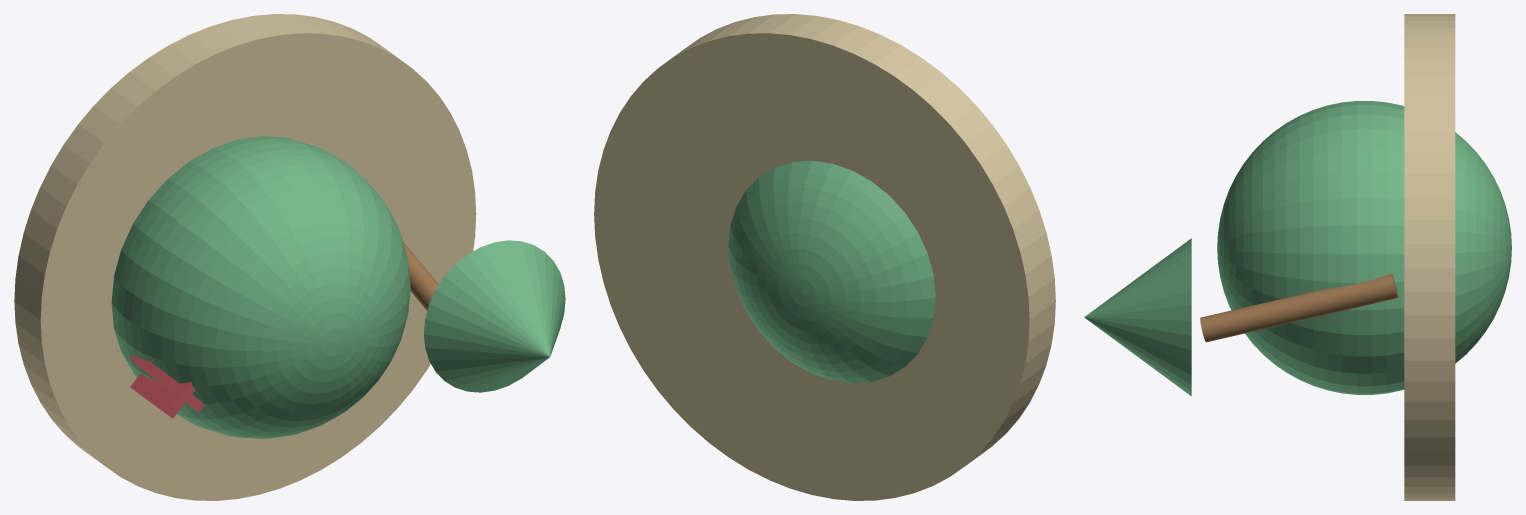
The model's file is island-berry-cove.glb.
3 views of the same model, side by side, from view 1: azimuth 30°, elevation 25°; view 2: azimuth 150°, elevation 25°; view 3: azimuth 270°, elevation 25° (orthographic). The views are drawn at different scales.
Parts seen in each view (by area): view 1: round_sandy_island, green_mound, palm_leaves, x_marks_spot_a, palm_trunk, x_marks_spot_b; view 2: round_sandy_island, green_mound; view 3: green_mound, round_sandy_island, palm_leaves, palm_trunk.
Part boxes in pixels (left/top/right/bottom): round_sandy_island: left=14, top=14, right=476, bottom=500; green_mound: left=111, top=136, right=410, bottom=438; palm_leaves: left=424, top=240, right=565, bottom=392; x_marks_spot_a: left=130, top=373, right=194, bottom=418; palm_trunk: left=403, top=242, right=438, bottom=310; x_marks_spot_b: left=130, top=355, right=204, bottom=412; round_sandy_island: left=594, top=14, right=1055, bottom=500; green_mound: left=728, top=160, right=935, bottom=383; green_mound: left=1217, top=101, right=1511, bottom=394; round_sandy_island: left=1404, top=14, right=1455, bottom=500; palm_leaves: left=1084, top=238, right=1191, bottom=396; palm_trunk: left=1200, top=273, right=1398, bottom=342.
Bounding box in the file's own units: 1.72 × 1.72 × 1.51.
